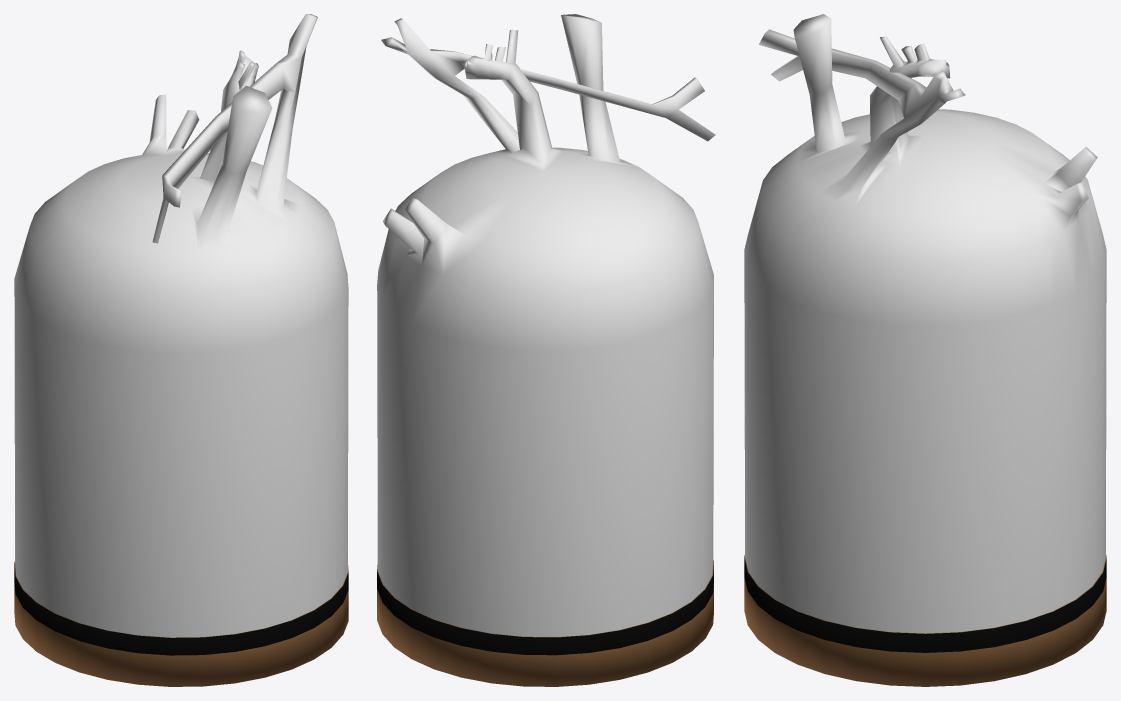
File: Rose.fbx
3 renders of one model, left to right at view 1: azimuth 30°, elevation 25°; view 2: azimuth 150°, elevation 25°; view 3: azimuth 270°, elevation 25°, orthographic. The views are drawn at different scales.
Parts seen in each view (by area): view 1: Cylinder; view 2: Cylinder; view 3: Cylinder.
Part boxes in pixels (bbox=[...]): Cylinder: bbox=[14, 14, 348, 686]; Cylinder: bbox=[377, 14, 715, 686]; Cylinder: bbox=[744, 14, 1106, 686].
Size of the model in its own units: 154 by 283 by 152.
